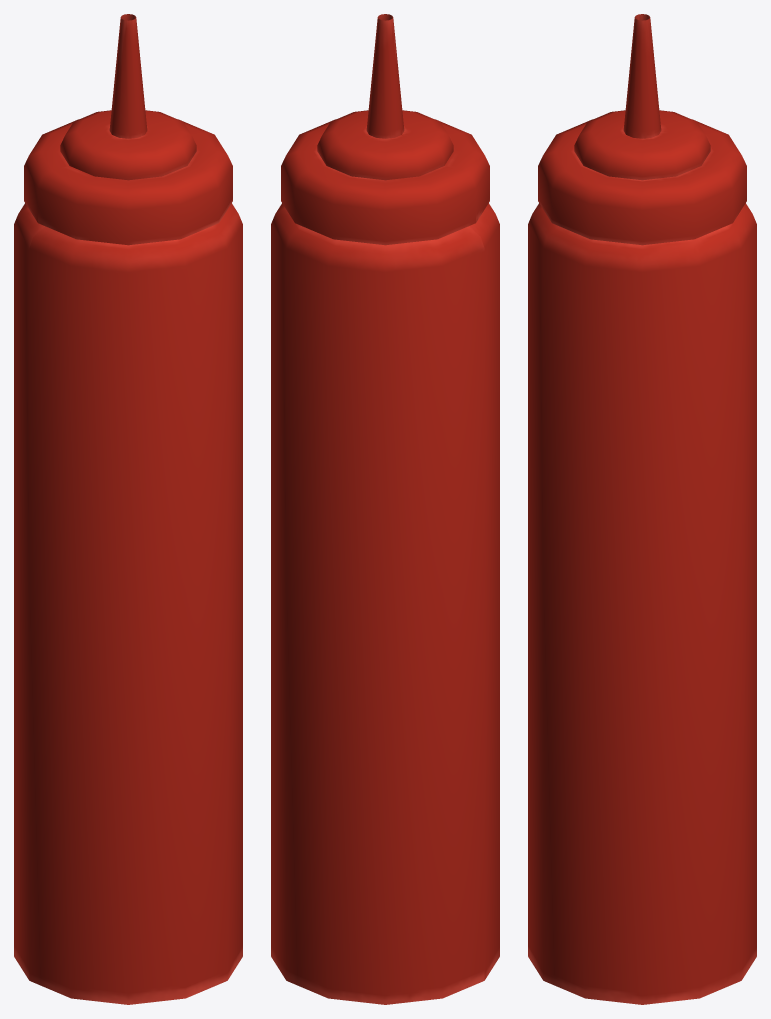
Rendered from CondimentBottle.fbx.
3 views of the same model, side by side, from view 1: azimuth 30°, elevation 25°; view 2: azimuth 150°, elevation 25°; view 3: azimuth 270°, elevation 25° (orthographic).
Visible parts, largest first — view 1: CondimentBottle; view 2: CondimentBottle; view 3: CondimentBottle.
Part boxes in pixels (x1,y1,x2,y2): CondimentBottle: (14, 14, 242, 1004); CondimentBottle: (271, 14, 499, 1004); CondimentBottle: (528, 14, 756, 1004).
Bounding box in the file's own units: 0.0508 × 0.23 × 0.0508.
